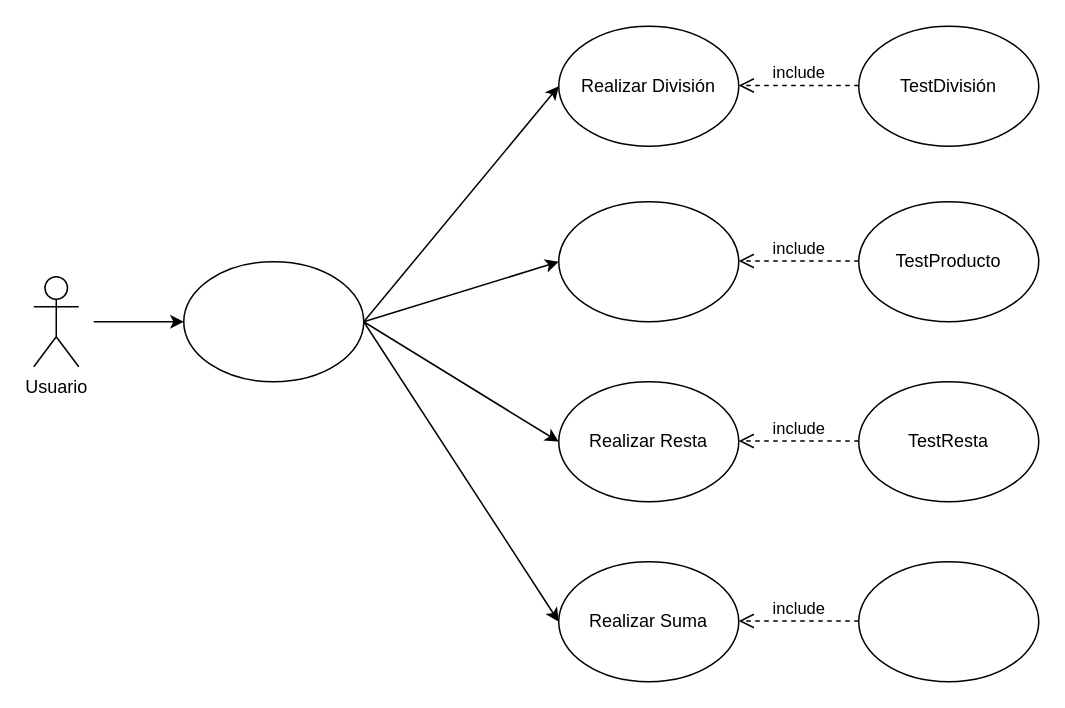
Image size: 1065x708. Some labels were removed from this diagram. Each missing label, with the centre of its shape:
Operacion: pixel 273 321
Realizar Producto: pixel 648 261
TestSuma: pixel 948 621
